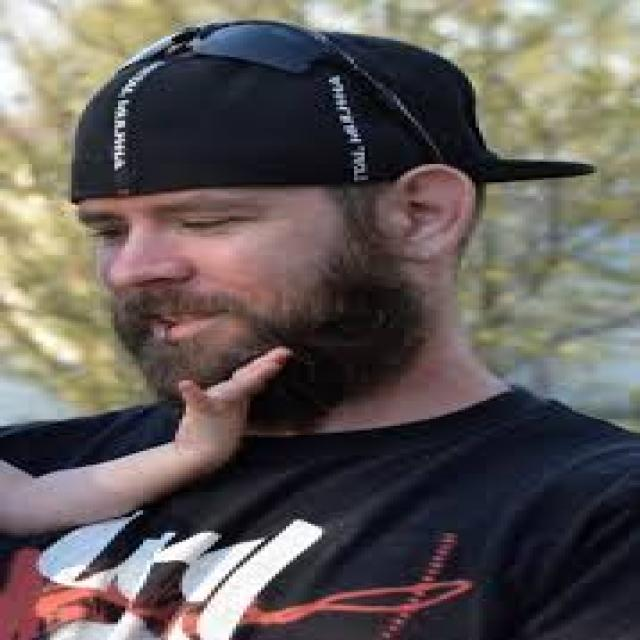cap: (71, 11, 615, 310)
